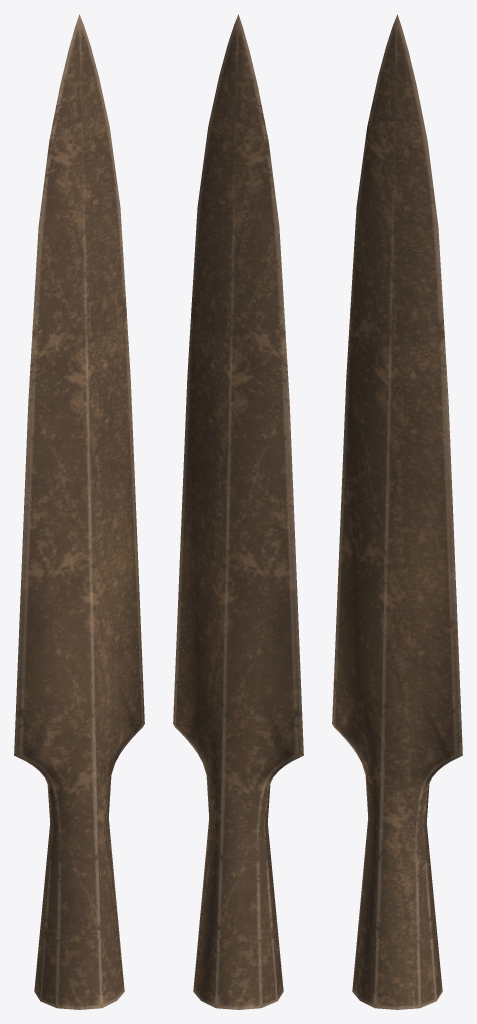
The model's file is dunland_caerdh_spear_head_b.fbx.
3 renders of one model, left to right at view 1: azimuth 30°, elevation 25°; view 2: azimuth 150°, elevation 25°; view 3: azimuth 330°, elevation 25°, orthographic.
Visible parts, largest first — view 1: dunland_caerdh_spear_head_b; view 2: dunland_caerdh_spear_head_b; view 3: dunland_caerdh_spear_head_b.
Boxes of the visible parts, x1,y1,x2,y2 form: dunland_caerdh_spear_head_b: [14, 14, 144, 1009]; dunland_caerdh_spear_head_b: [173, 14, 303, 1009]; dunland_caerdh_spear_head_b: [332, 14, 462, 1009].
Size of the model in its own units: 0.07 by 0.0419 by 0.5.
Materials: 1 (1 with a texture image).
